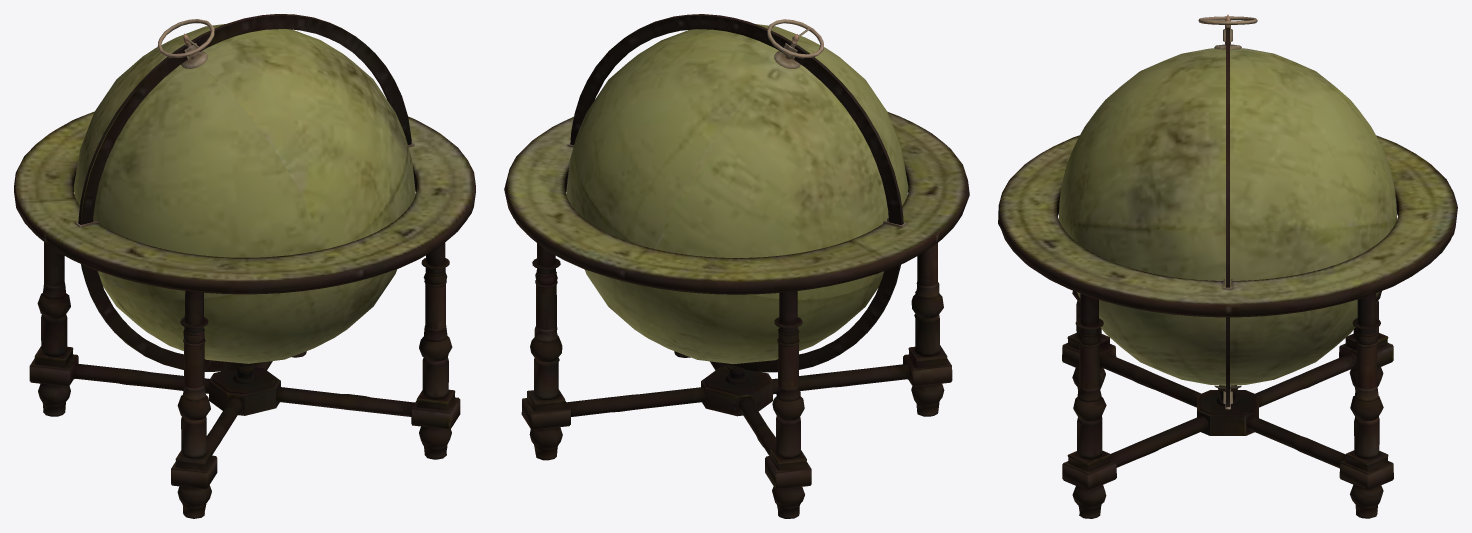
File: SM_Globe_633034.glb
3 renders of one model, left to right at view 1: azimuth 30°, elevation 25°; view 2: azimuth 150°, elevation 25°; view 3: azimuth 270°, elevation 25°, orthographic.
Bounding box in the file's own units: 1.21 × 1.21 × 1.21.
Materials: 1 (1 with a texture image).
